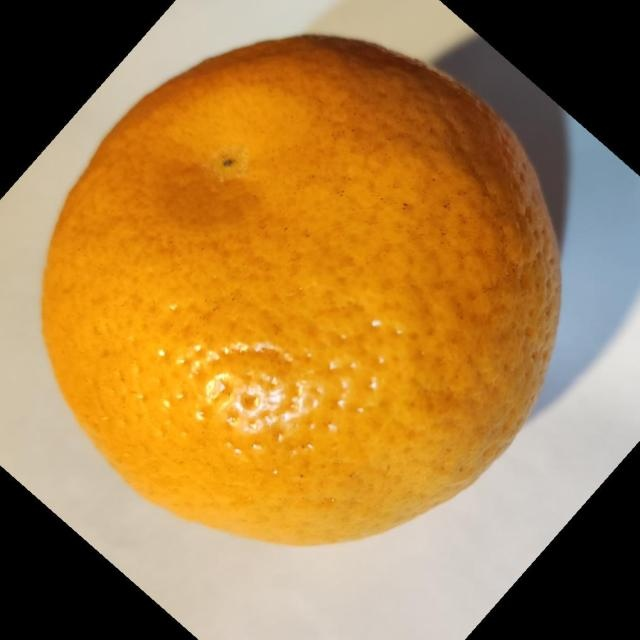agrume: (39, 32, 563, 547)
